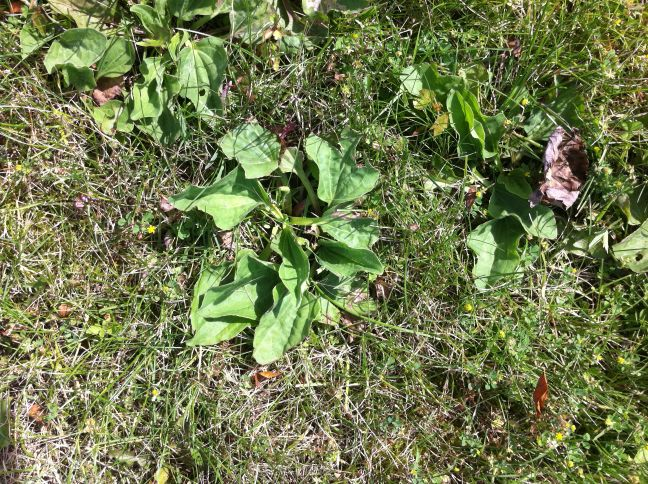weed1: (165, 123, 382, 365), (424, 60, 571, 300), (30, 1, 276, 138)
